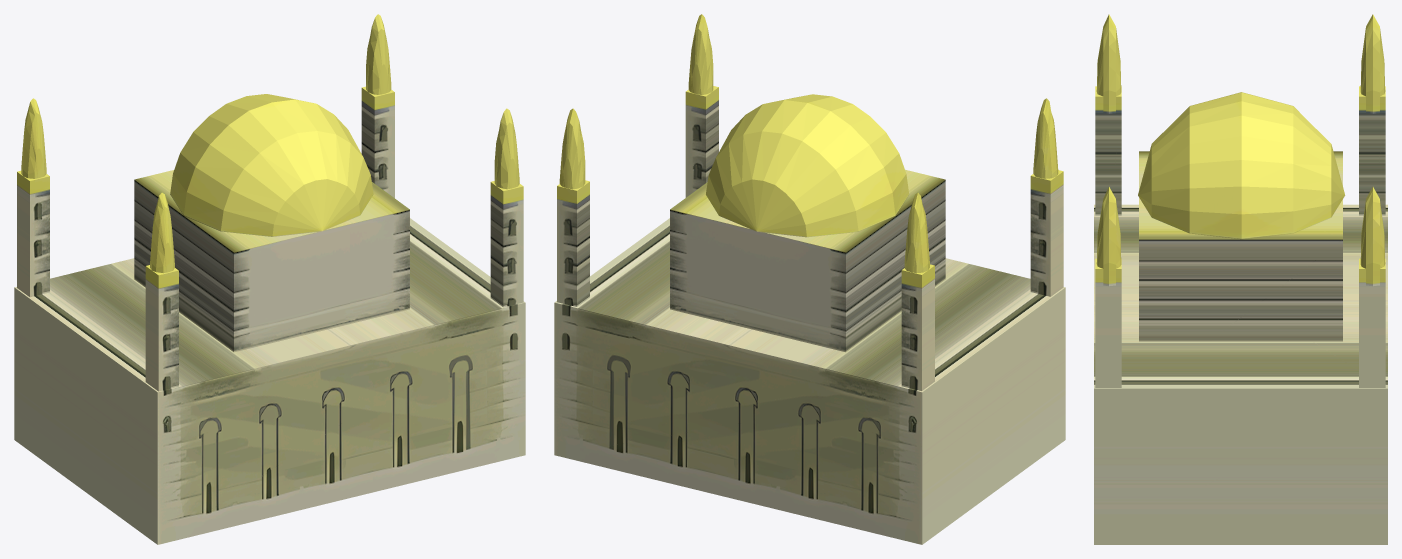
File: House7.glb
3 views of the same model, side by side, from view 1: azimuth 30°, elevation 25°; view 2: azimuth 150°, elevation 25°; view 3: azimuth 270°, elevation 25° (orthographic). The views are drawn at different scales.
Parts seen in each view (by area): view 1: House7; view 2: House7; view 3: House7.
Part boxes in pixels (left/top/right/bottom): House7: left=14, top=14, right=525, bottom=544; House7: left=554, top=14, right=1065, bottom=544; House7: left=1094, top=14, right=1387, bottom=544.
Bounding box in the file's own units: 154 × 138 × 104.
1 material, 1 textured.
